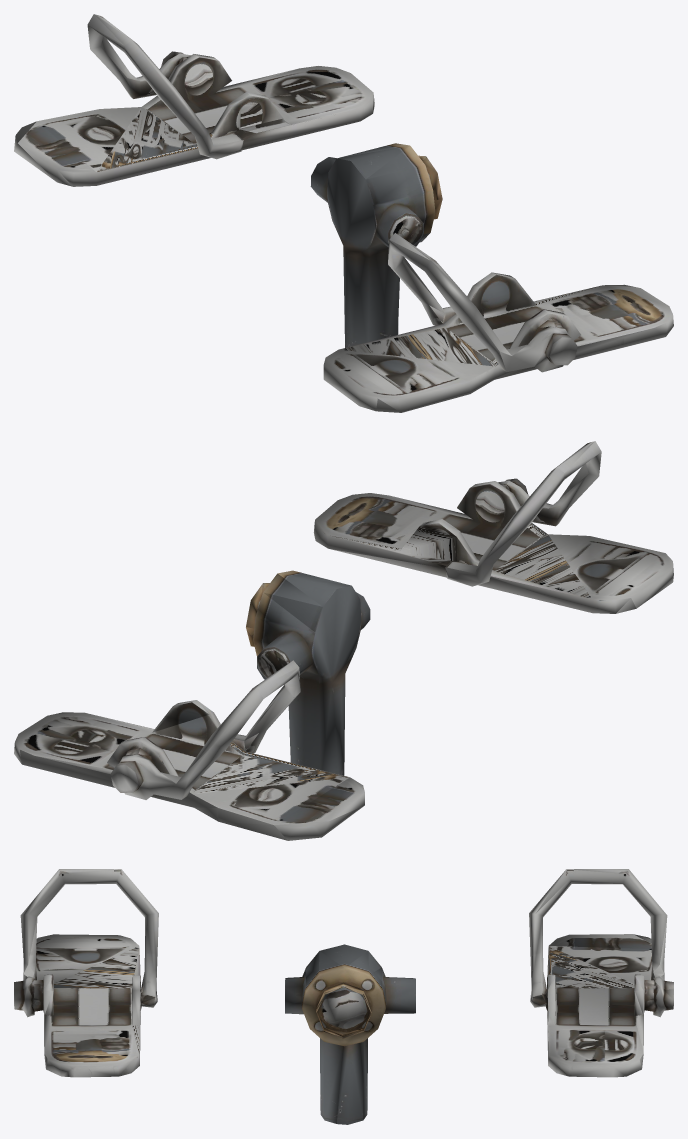
File: pedals_lp.glb
3 renders of one model, top to bottom at view 1: azimuth 30°, elevation 25°; view 2: azimuth 150°, elevation 25°; view 3: azimuth 270°, elevation 25°, orthographic. The views are drawn at different scales.
Parts seen in each view (by area): view 1: tripo_node_a41750db-d9ce-403a-884e-e7284; view 2: tripo_node_a41750db-d9ce-403a-884e-e7284; view 3: tripo_node_a41750db-d9ce-403a-884e-e7284.
Boxes of the visible parts, left/top/right/bottom form: tripo_node_a41750db-d9ce-403a-884e-e7284: left=14, top=14, right=673, bottom=412; tripo_node_a41750db-d9ce-403a-884e-e7284: left=14, top=441, right=673, bottom=840; tripo_node_a41750db-d9ce-403a-884e-e7284: left=14, top=869, right=673, bottom=1124.
Bounding box in the file's own units: 0.4755 × 0.3354 × 0.9954.
Materials: 1 (1 with a texture image).
